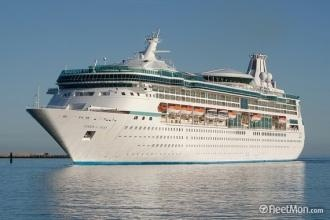youlun: (19, 29, 306, 166)
